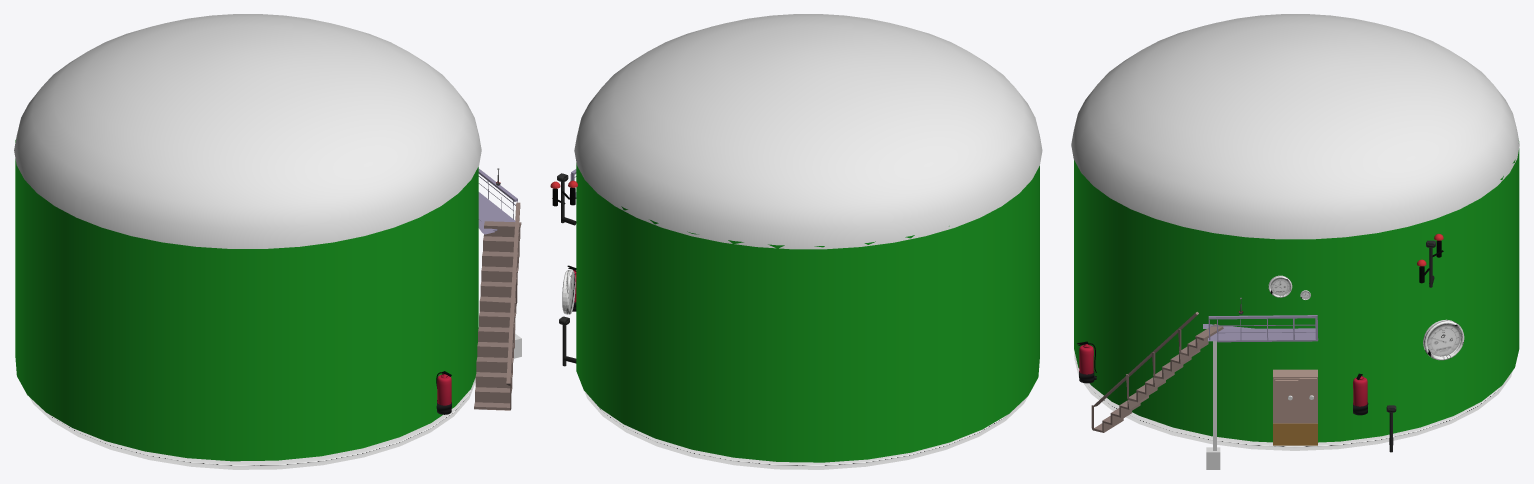
The model's file is digest_intern.glb.
3 views of the same model, side by side, from view 1: azimuth 30°, elevation 25°; view 2: azimuth 150°, elevation 25°; view 3: azimuth 270°, elevation 25° (orthographic). The views are drawn at different scales.
Parts seen in each view (by area): view 1: Cylinder, Sphere, Cube, Cylinder.012, Cube.003; view 2: Cylinder, Sphere, Cylinder.012, Cylinder.010; view 3: Cylinder, Sphere, Cylinder.012, Cube, Cube.002, Cube.003, Cylinder.010, Cube.001.
Part boxes in pixels (x1,y1,x2,y2): Cylinder: [15, 140, 478, 461]; Sphere: [14, 14, 481, 248]; Cube: [474, 202, 521, 410]; Cylinder.012: [29, 378, 475, 469]; Cube.003: [478, 168, 517, 234]; Cylinder: [576, 163, 1039, 462]; Sphere: [574, 14, 1042, 249]; Cylinder.012: [584, 386, 1033, 469]; Cylinder.010: [562, 270, 575, 314]; Cylinder: [1074, 141, 1519, 442]; Sphere: [1071, 14, 1519, 239]; Cylinder.012: [1074, 351, 1512, 450]; Cube: [1091, 312, 1223, 432]; Cube.002: [1273, 369, 1317, 423]; Cube.003: [1203, 315, 1318, 342]; Cylinder.010: [1423, 319, 1464, 360]; Cube.001: [1273, 423, 1317, 445].
Bounding box in the file's own units: 40.61 × 29.23 × 38.29.
23 materials, 2 textured.
